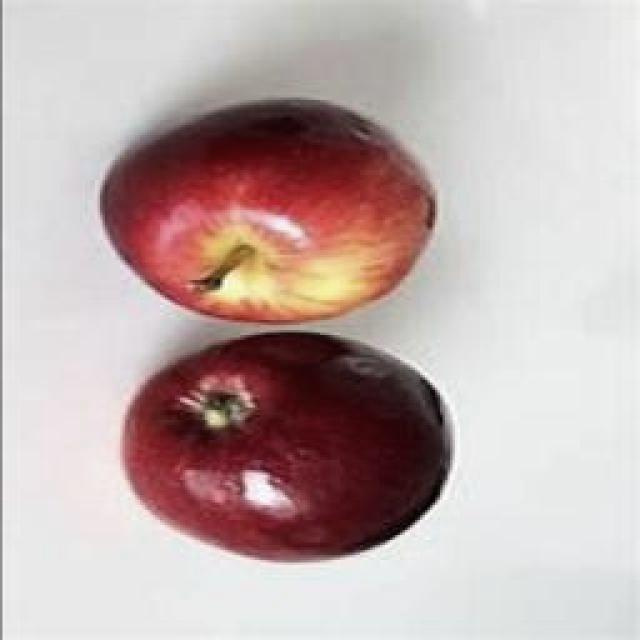Apple: (124, 332, 452, 561), (101, 99, 436, 323)
